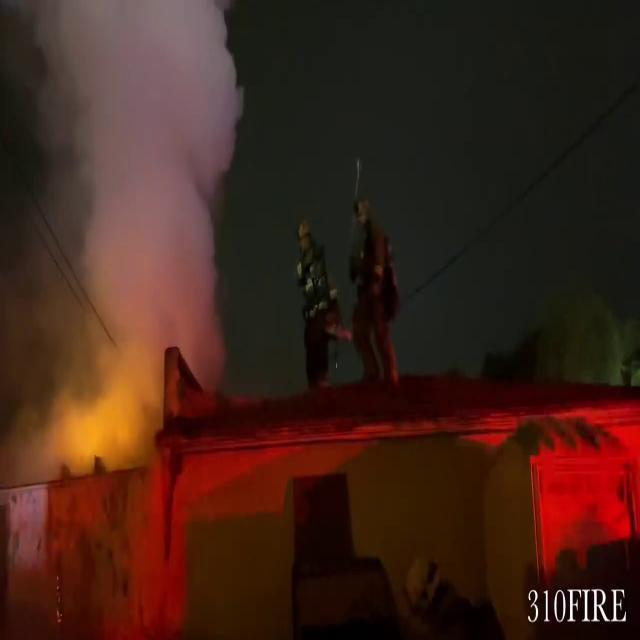Smoke: (0, 1, 248, 586)
